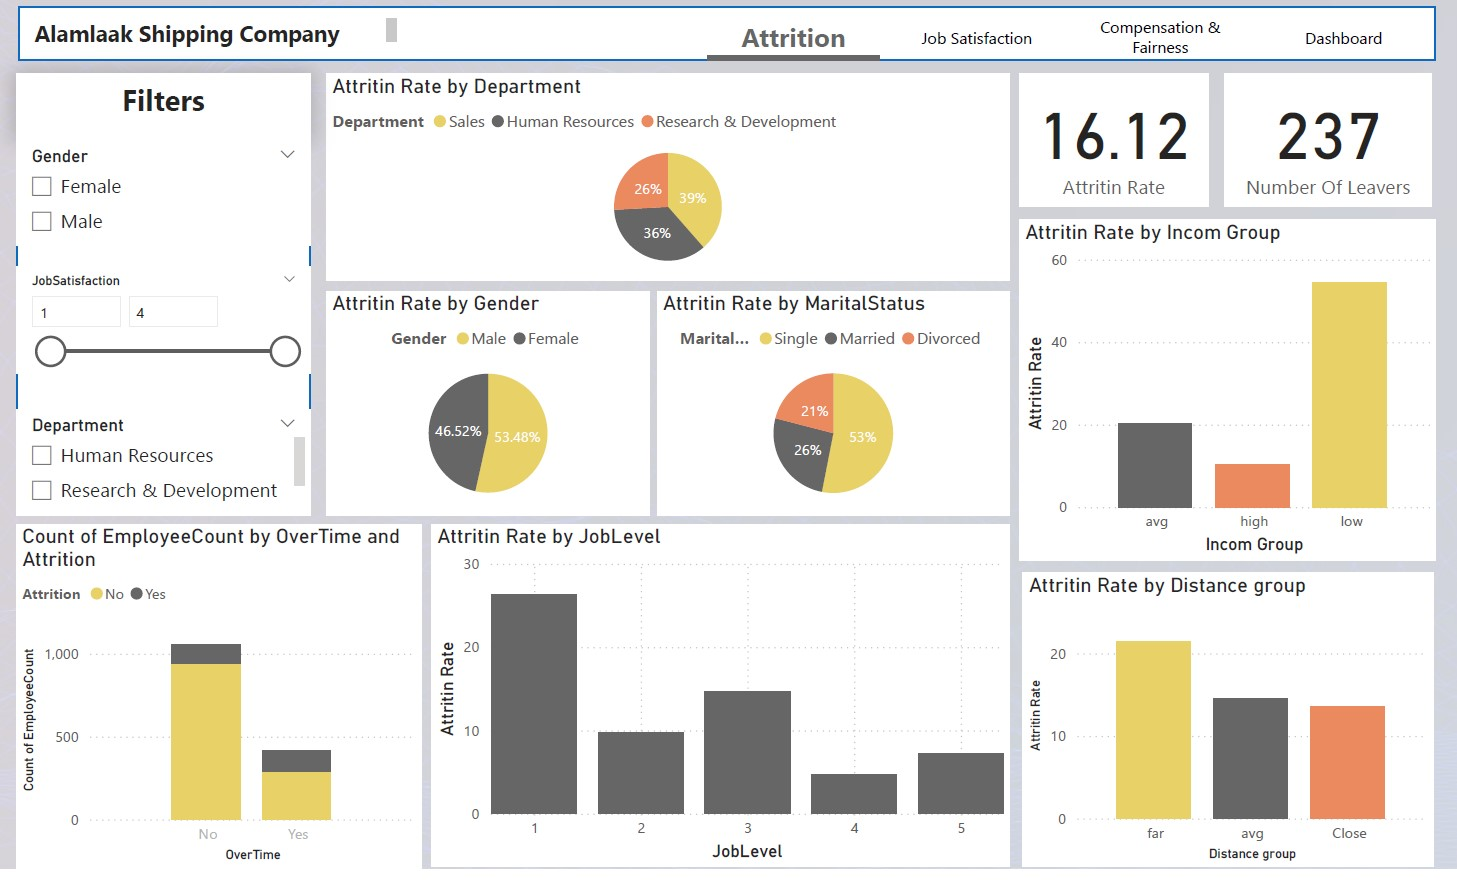

Layout of this report page (visuals, bound fields, positions):
{"tool":"powerbi","page":{"name":" Attrition","canvas":[1280,720],"ordinal":0},"visuals":[{"type":"shape","box":[55.7,5.9,1174.7,45.5],"z":0},{"type":"textbox","box":[63.9,11.2,310.1,35.2],"z":1000},{"type":"card","fields":{"Values":["Employees.Attritin Rate"]},"box":[885.1,61.7,156.4,109.8],"z":2000},{"type":"card","fields":{"Values":["Employees.Number Of Leavers"]},"box":[1055.2,61.7,171.5,109.8],"z":3000},{"type":"columnChart","fields":{"Category":["Employees.OverTime"],"Series":["Employees.Attrition"],"Y":["CountNonNull(Employees.EmployeeCount)"]},"box":[53.5,435,336.2,285.4],"z":4000},{"type":"clusteredColumnChart","fields":{"Y":["Employees.Attritin Rate"],"Category":["Employees.Incom Group"]},"box":[885.1,182.5,344.4,282.7],"z":5000},{"type":"pieChart","fields":{"Category":["Employees.Department"],"Y":["Employees.Attritin Rate"]},"box":[311.5,61.7,565.4,171.5],"z":6000},{"type":"pieChart","fields":{"Category":["Employees.Gender"],"Y":["Employees.Attritin Rate"]},"box":[311.5,241.5,267.6,186.6],"z":7000},{"type":"columnChart","fields":{"Category":["Employees.Distance group"],"Y":["Employees.Attritin Rate"]},"box":[887.8,474.8,340.3,244.3],"z":8000},{"type":"pieChart","fields":{"Category":["Employees.MaritalStatus"],"Y":["Employees.Attritin Rate"]},"box":[584.6,241.5,292.3,186.6],"z":9000},{"type":"columnChart","fields":{"Category":["Employees.JobLevel"],"Y":["Employees.Attritin Rate"]},"box":[397.9,435,478.9,284],"z":10000},{"type":"shape","box":[53.5,61.7,244.3,366.4],"z":11000},{"type":"textbox","box":[53.5,61.7,244.3,54.9],"z":12000},{"type":"slicer","fields":{"Values":["Employees.Gender"]},"box":[53.5,116.6,244.3,87.8],"z":13000},{"type":"slicer","fields":{"Values":["Employees.Department"]},"box":[53.5,340.3,244.3,87.8],"z":14000},{"type":"slicer","fields":{"Values":["Employees.JobSatisfaction"]},"box":[53.5,222.3,244.3,87.8],"z":15000},{"type":"pageNavigator","box":[626.6,11.2,599.4,40],"z":15001}]}

Visuals, with their boxes on the page's 1280x720 design canvas (x1, y1, x2, y2). These are canvas units, not pixel positions in the 1457x881 screenshot, which may show the page scaled, cropped or inside an application window:
shape: {"left": 56, "top": 6, "right": 1230, "bottom": 51}
textbox: {"left": 64, "top": 11, "right": 374, "bottom": 46}
card - Employees.Attritin Rate: {"left": 885, "top": 62, "right": 1042, "bottom": 172}
card - Employees.Number Of Leavers: {"left": 1055, "top": 62, "right": 1227, "bottom": 172}
columnChart - Employees.OverTime x Employees.Attrition: {"left": 54, "top": 435, "right": 390, "bottom": 720}
clusteredColumnChart - Employees.Attritin Rate x Employees.Incom Group: {"left": 885, "top": 182, "right": 1230, "bottom": 465}
pieChart - Employees.Department x Employees.Attritin Rate: {"left": 312, "top": 62, "right": 877, "bottom": 233}
pieChart - Employees.Gender x Employees.Attritin Rate: {"left": 312, "top": 242, "right": 579, "bottom": 428}
columnChart - Employees.Distance group x Employees.Attritin Rate: {"left": 888, "top": 475, "right": 1228, "bottom": 719}
pieChart - Employees.MaritalStatus x Employees.Attritin Rate: {"left": 585, "top": 242, "right": 877, "bottom": 428}
columnChart - Employees.JobLevel x Employees.Attritin Rate: {"left": 398, "top": 435, "right": 877, "bottom": 719}
shape: {"left": 54, "top": 62, "right": 298, "bottom": 428}
textbox: {"left": 54, "top": 62, "right": 298, "bottom": 117}
slicer - Employees.Gender: {"left": 54, "top": 117, "right": 298, "bottom": 204}
slicer - Employees.Department: {"left": 54, "top": 340, "right": 298, "bottom": 428}
slicer - Employees.JobSatisfaction: {"left": 54, "top": 222, "right": 298, "bottom": 310}
pageNavigator: {"left": 627, "top": 11, "right": 1226, "bottom": 51}
